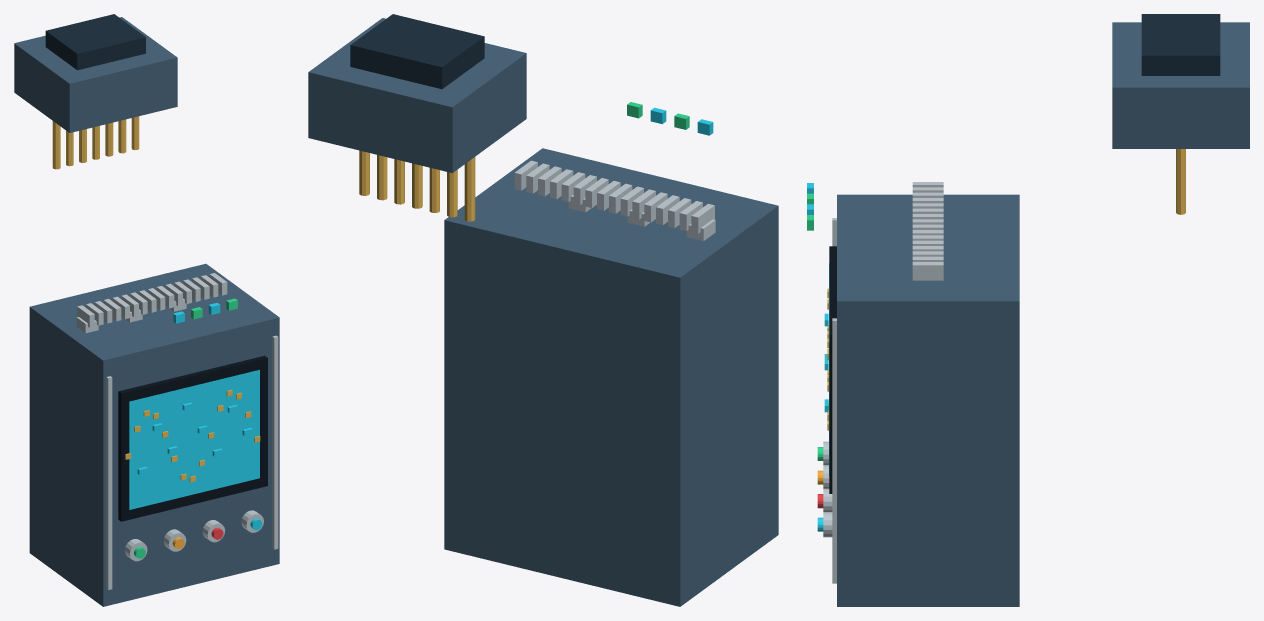
The model's file is 55_L79_HighSpeedBERJitterAnalyzer.fbx.
3 views of the same model, side by side, from view 1: azimuth 30°, elevation 25°; view 2: azimuth 150°, elevation 25°; view 3: azimuth 270°, elevation 25° (orthographic). The views are drawn at different scales.
Visible parts, largest first — view 1: HighSpeedBERJitterAnalyzer, HighSpeedBERJitterAnalyzer_Part_0059, HighSpeedBERJitterAnalyzer_Part_0067, HighSpeedBERJitterAnalyzer_Part_0060; view 2: HighSpeedBERJitterAnalyzer, HighSpeedBERJitterAnalyzer_Part_0059, HighSpeedBERJitterAnalyzer_Part_0067, HighSpeedBERJitterAnalyzer_Part_0060; view 3: HighSpeedBERJitterAnalyzer, HighSpeedBERJitterAnalyzer_Part_0059, HighSpeedBERJitterAnalyzer_Part_0067, HighSpeedBERJitterAnalyzer_Part_0066.
Boxes of the visible parts, <box> form: HighSpeedBERJitterAnalyzer: <box>29,263,279,606</box>; HighSpeedBERJitterAnalyzer_Part_0059: <box>14,17,177,132</box>; HighSpeedBERJitterAnalyzer_Part_0067: <box>45,14,145,70</box>; HighSpeedBERJitterAnalyzer_Part_0060: <box>52,121,60,169</box>; HighSpeedBERJitterAnalyzer: <box>444,102,778,606</box>; HighSpeedBERJitterAnalyzer_Part_0059: <box>308,18,526,172</box>; HighSpeedBERJitterAnalyzer_Part_0067: <box>350,14,484,89</box>; HighSpeedBERJitterAnalyzer_Part_0060: <box>464,157,475,221</box>; HighSpeedBERJitterAnalyzer: <box>807,182,1019,606</box>; HighSpeedBERJitterAnalyzer_Part_0059: <box>1112,22,1249,148</box>; HighSpeedBERJitterAnalyzer_Part_0067: <box>1141,14,1220,75</box>; HighSpeedBERJitterAnalyzer_Part_0066: <box>1176,149,1185,214</box>.
Size of the model in its own units: 94.5 by 214 by 158.
